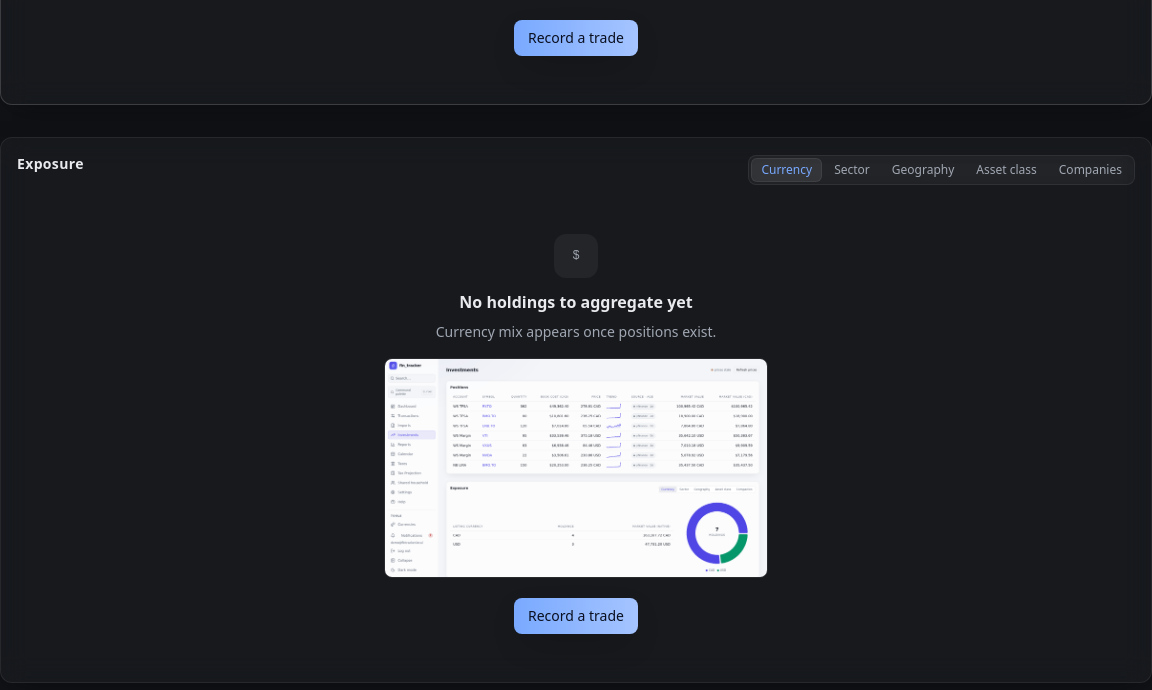
Scenario: M167 — top 8 + Other, then the full list inline › applies the SAME rule to every dimension, and to companies at 10
The image size is (1152, 690).
(page scrolled)
Click the tab "Sector" at [852, 170], box [824, 158, 880, 182]
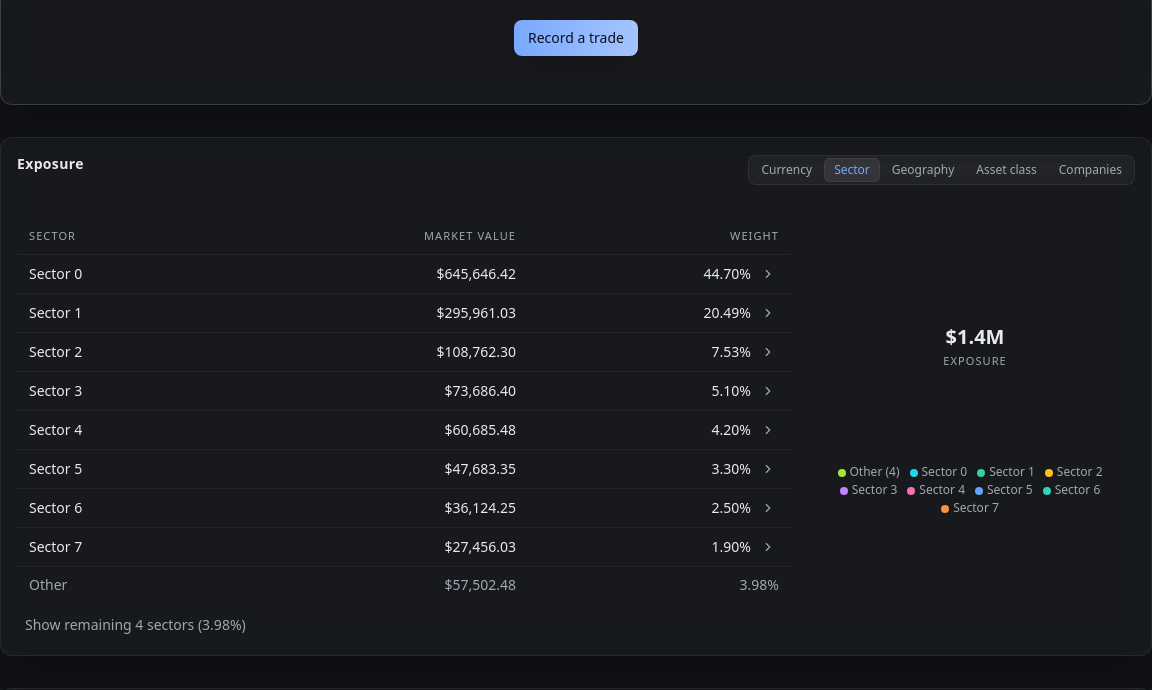
Check: the element named "Exposure breakdown table" is shown, box [17, 218, 791, 604]
Check: the button "Show remaining 4 sectors (3.98%)" is shown, box [17, 612, 254, 640]
Check: the cell "Other" is shown, box [17, 567, 221, 604]
Click the tab "Companies" at [1090, 170], box [1049, 158, 1132, 182]
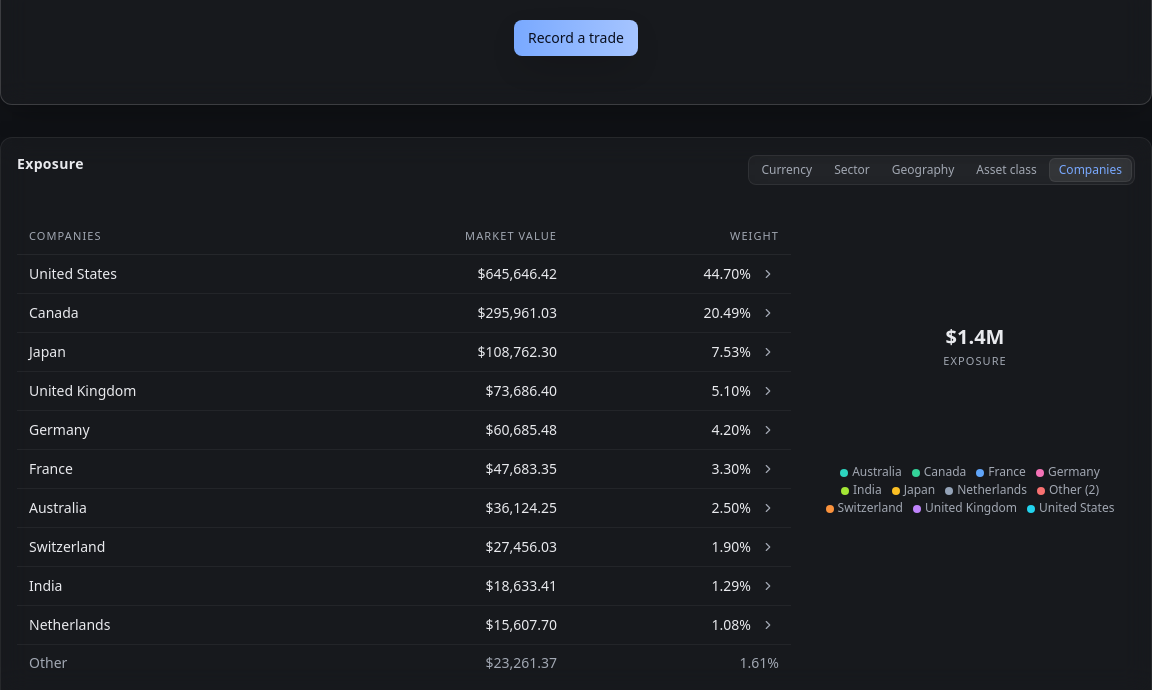
Check: the element named "Exposure breakdown table" is shown, box [17, 218, 791, 682]
Click the tab "Asset class" at [1007, 170], box [966, 158, 1047, 182]
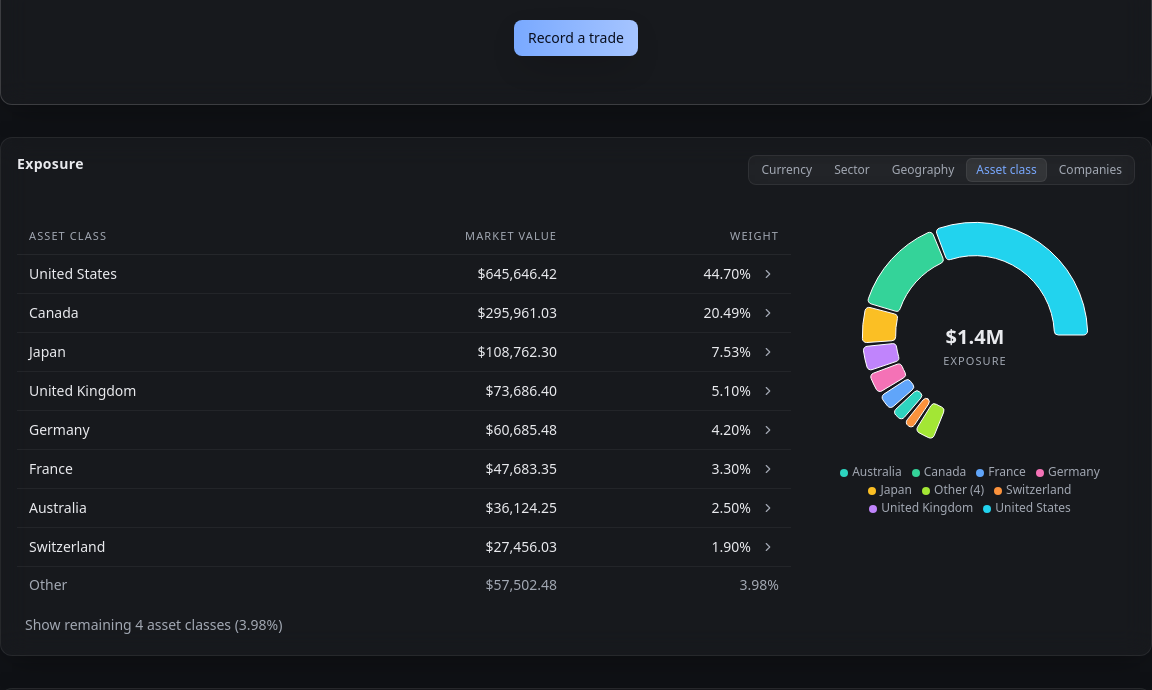
Check: the element named "Exposure breakdown table" is shown, box [17, 218, 791, 604]
Check: the button "Show remaining 4 asset classes (3.98%)" is shown, box [17, 612, 290, 640]
